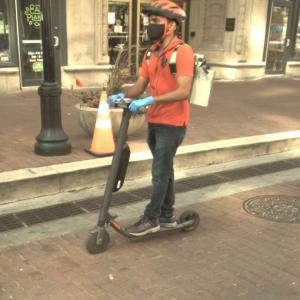helmet: (138, 3, 187, 45)
human: (127, 1, 193, 222)
kickboard: (78, 210, 201, 249)
